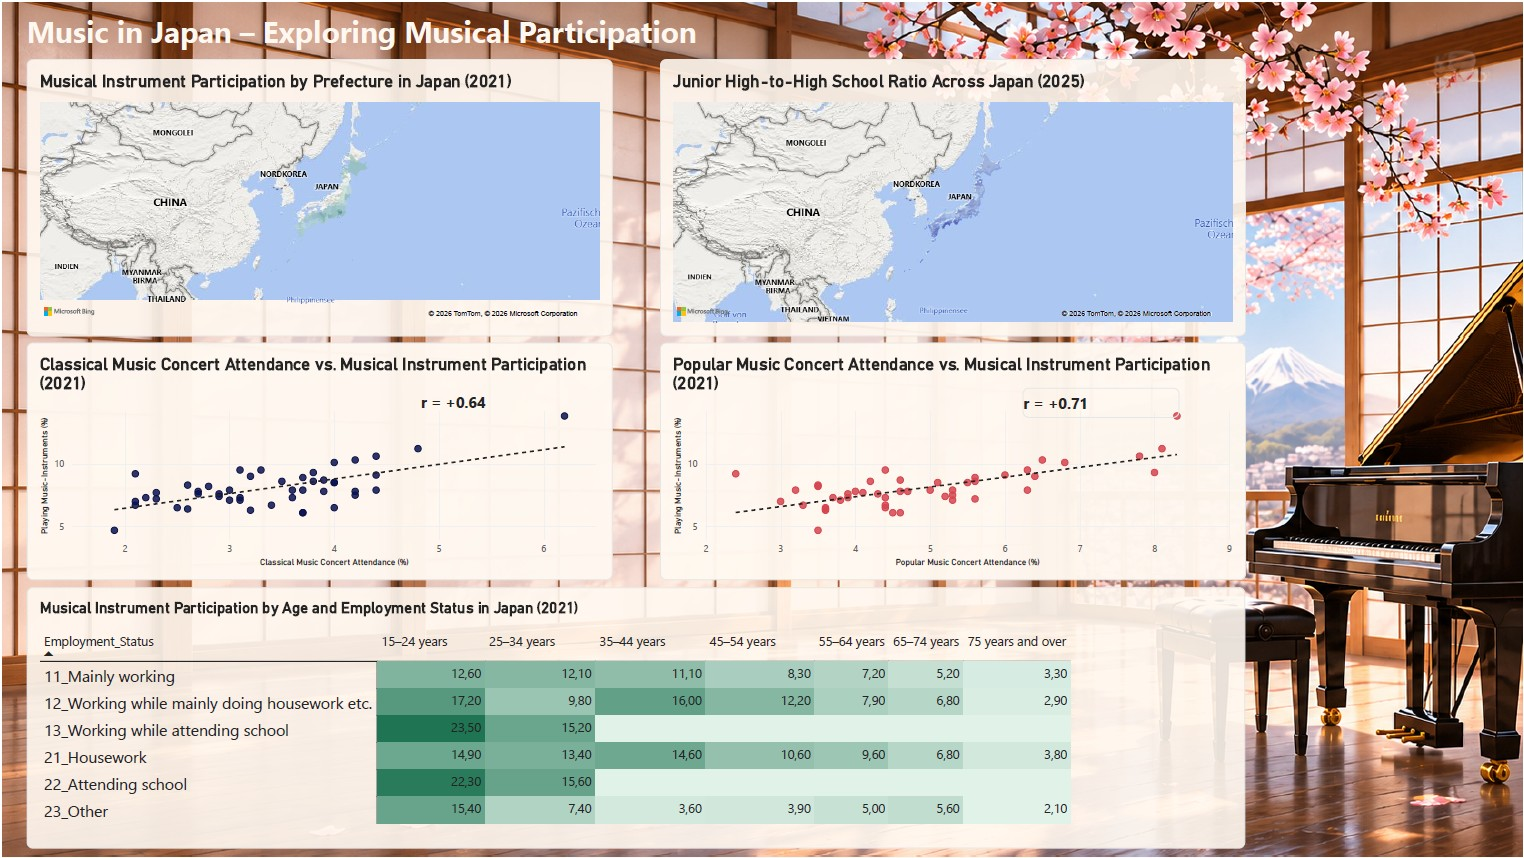

Layout of this report page (visuals, bound fields, positions):
{"tool":"powerbi","page":{"name":"Dashobard","canvas":[1920,1080],"ordinal":5},"visuals":[{"type":"filledMap","title":"Musical Instrument Participation by Prefecture in Japan (2021)","fields":{"Category":["RQ 1.Country","RQ 1.Region"]},"box":[30,71,740,350],"z":0},{"type":"scatterChart","title":"Popular Music Concert Attendance vs. Musical Instrument Participation (2021)","fields":{"Category":["Query_Results_PMI.Region"],"X":["Avg(Query_Results_PMI.Popular_Music_Concerts)"],"Y":["Avg(Query_Results_PMI.Playing_Musical_Instruments)"]},"box":[830,429,740,300],"z":1000},{"type":"scatterChart","title":"Classical Music Concert Attendance vs. Musical Instrument Participation (2021)","fields":{"Category":["RQ 1.Region"],"X":["Sum(Query_Results_PMI.Classical_Concerts)"],"Y":["Avg(Query_Results_PMI.Playing_Musical_Instruments)"]},"box":[30,429,740,300],"z":2000},{"type":"pivotTable","title":"Musical Instrument Participation by Age and Employment Status in Japan (2021)","fields":{"Columns":["Participation_Distinct.Age_Label"],"Rows":["Participation_Distinct.Usual_Employment_Status"],"Values":["Avg(Participation_Distinct.Playing_Musical_Instruments)"]},"box":[30,738,1539.3,330],"z":3000},{"type":"filledMap","title":"Junior High-to-High School Ratio Across Japan (2025)","fields":{"Category":["RQ 4_School_Ratio.Country","RQ 4_School_Ratio.Prefecture"]},"box":[830,71,740,350],"z":4000},{"type":"textbox","box":[30,10,1200,55],"z":5000},{"type":"textbox","box":[527.6,485.7,83.7,38.5],"z":6000},{"type":"textbox","box":[1288,485.7,197.6,38.5],"z":7000}]}

Visuals, with their boxes in screenshot pixels (x1, y1, x2, y2), scaled from the page's 1920x1080 canvas onto the 1524x858 screenshot:
"Musical Instrument Participation by Prefecture in Japan (2021)" filledMap: region(24, 56, 611, 334)
"Popular Music Concert Attendance vs. Musical Instrument Participation (2021)" scatterChart: region(659, 341, 1246, 579)
"Classical Music Concert Attendance vs. Musical Instrument Participation (2021)" scatterChart: region(24, 341, 611, 579)
"Musical Instrument Participation by Age and Employment Status in Japan (2021)" pivotTable: region(24, 586, 1246, 848)
"Junior High-to-High School Ratio Across Japan (2025)" filledMap: region(659, 56, 1246, 334)
textbox: region(24, 8, 976, 52)
textbox: region(419, 386, 485, 416)
textbox: region(1022, 386, 1179, 416)
